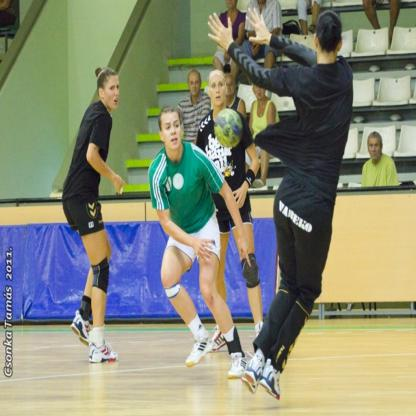Ball: (212, 107, 244, 146)
